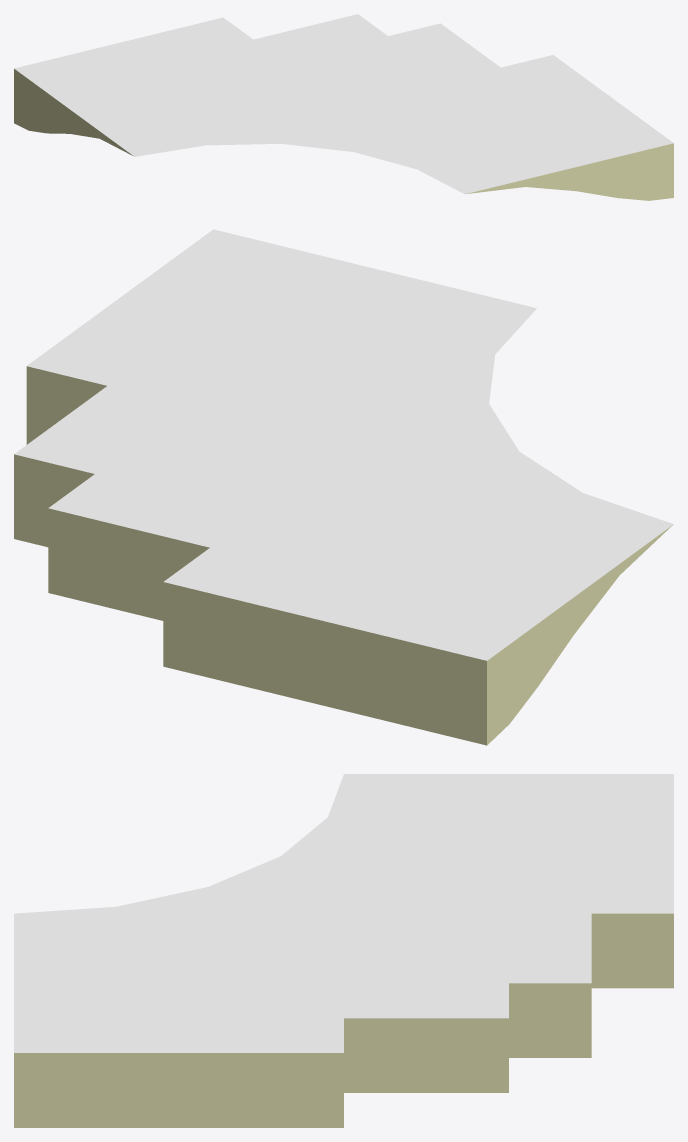
Rendered from Ceiling_Curve_Inner_8x8.glb.
The picture shows the model from 3 angles, top to bottom: view 1: azimuth 30°, elevation 25°; view 2: azimuth 150°, elevation 25°; view 3: azimuth 270°, elevation 25°; orthographic projection. The views are drawn at different scales.
Parts seen in each view (by area): view 1: Ceiling_Curve_Inner_8x8; view 2: Ceiling_Curve_Inner_8x8; view 3: Ceiling_Curve_Inner_8x8.
Boxes of the visible parts, <box> form: Ceiling_Curve_Inner_8x8: <box>14,14,673,200</box>; Ceiling_Curve_Inner_8x8: <box>14,229,673,745</box>; Ceiling_Curve_Inner_8x8: <box>14,774,673,1127</box>.
Size of the model in its own units: 800 by 100 by 800.
